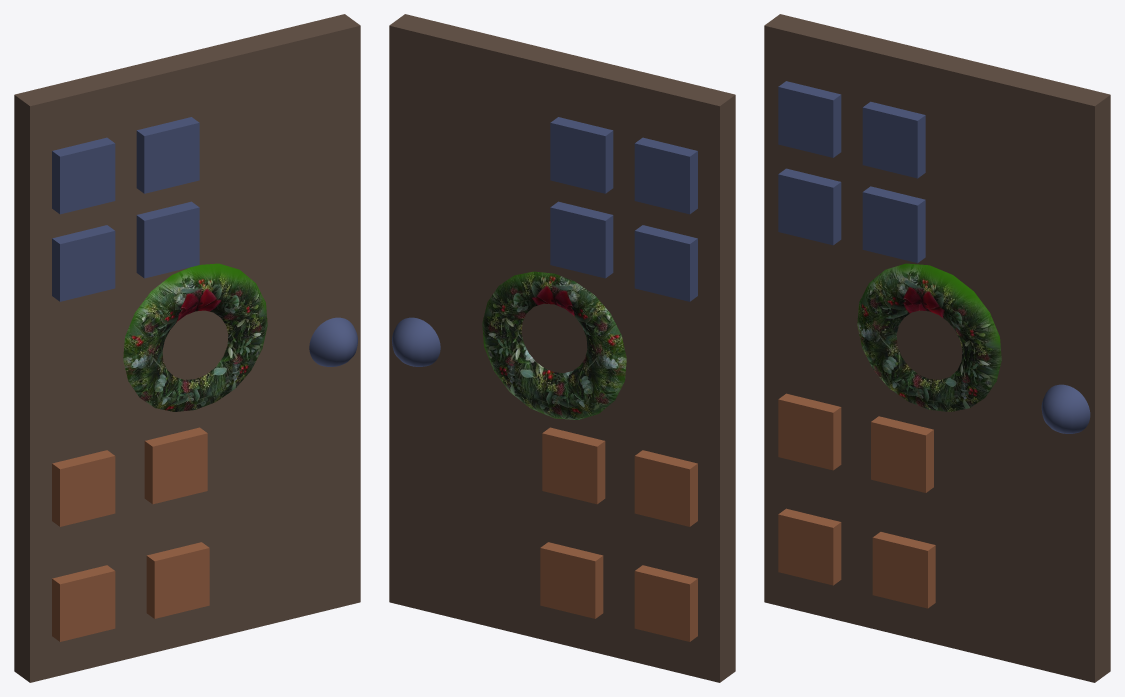
Rendered from CB-door.fbx.
3 renders of one model, left to right at view 1: azimuth 30°, elevation 25°; view 2: azimuth 150°, elevation 25°; view 3: azimuth 330°, elevation 25°, orthographic.
Visible parts, largest first — view 1: Door_frame, pTorus1, pasted__pCube3 (×3), pasted__pasted__pCube3 (×2), pasted__pasted__pasted__pCube3, pCube3, pasted__pasted__pasted__pasted__pCube3, Door__handele; view 2: Door_frame, pTorus1, pasted__pCube3 (×3), pasted__pasted__pCube3 (×2), pasted__pasted__pasted__pCube3, pCube3, pasted__pasted__pasted__pasted__pCube3, Door__handele; view 3: Door_frame, pTorus1, pasted__pCube3 (×3), pasted__pasted__pCube3 (×2), pCube3, pasted__pasted__pasted__pCube3, pasted__pasted__pasted__pasted__pCube3, Door__handele.
Boxes of the visible parts, bbox=[...] form: Door_frame: bbox=[14, 14, 360, 682]; pTorus1: bbox=[123, 263, 267, 411]; pasted__pCube3 (×3): bbox=[52, 117, 207, 504]; pasted__pasted__pCube3 (×2): bbox=[52, 201, 199, 526]; pasted__pasted__pasted__pCube3: bbox=[52, 565, 115, 641]; pCube3: bbox=[52, 137, 115, 214]; pasted__pasted__pasted__pasted__pCube3: bbox=[146, 542, 209, 618]; Door__handele: bbox=[309, 317, 357, 366]; Door_frame: bbox=[389, 14, 735, 682]; pTorus1: bbox=[482, 271, 626, 419]; pasted__pCube3 (×3): bbox=[542, 117, 697, 504]; pasted__pasted__pCube3 (×2): bbox=[550, 201, 697, 526]; pasted__pasted__pasted__pCube3: bbox=[634, 565, 697, 641]; pCube3: bbox=[634, 137, 697, 214]; pasted__pasted__pasted__pasted__pCube3: bbox=[540, 542, 603, 618]; Door__handele: bbox=[392, 317, 440, 366]; Door_frame: bbox=[764, 14, 1110, 682]; pTorus1: bbox=[857, 263, 1001, 411]; pasted__pCube3 (×3): bbox=[778, 101, 933, 492]; pasted__pasted__pCube3 (×2): bbox=[778, 186, 925, 470]; pCube3: bbox=[778, 81, 841, 157]; pasted__pasted__pasted__pCube3: bbox=[778, 508, 841, 585]; pasted__pasted__pasted__pasted__pCube3: bbox=[872, 532, 935, 608]; Door__handele: bbox=[1041, 384, 1090, 433].
Size of the model in its own units: 6 by 10 by 1.35.
Materials: 8 (1 with a texture image).
